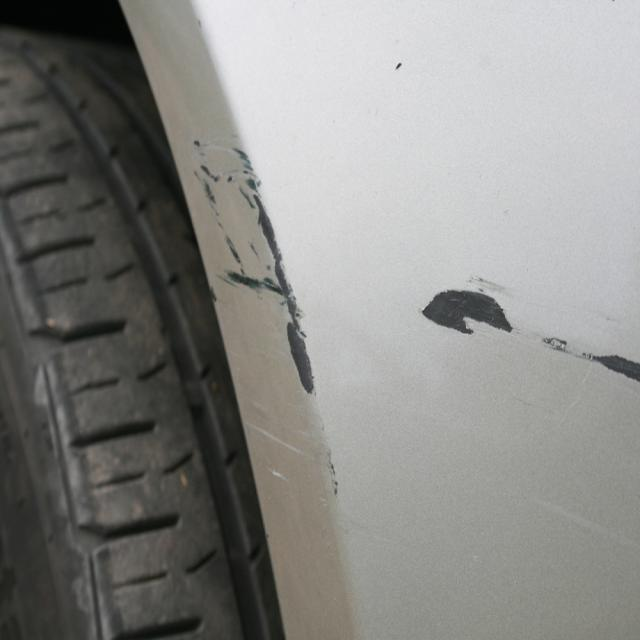scratch: (192, 128, 342, 498), (417, 277, 640, 394)
